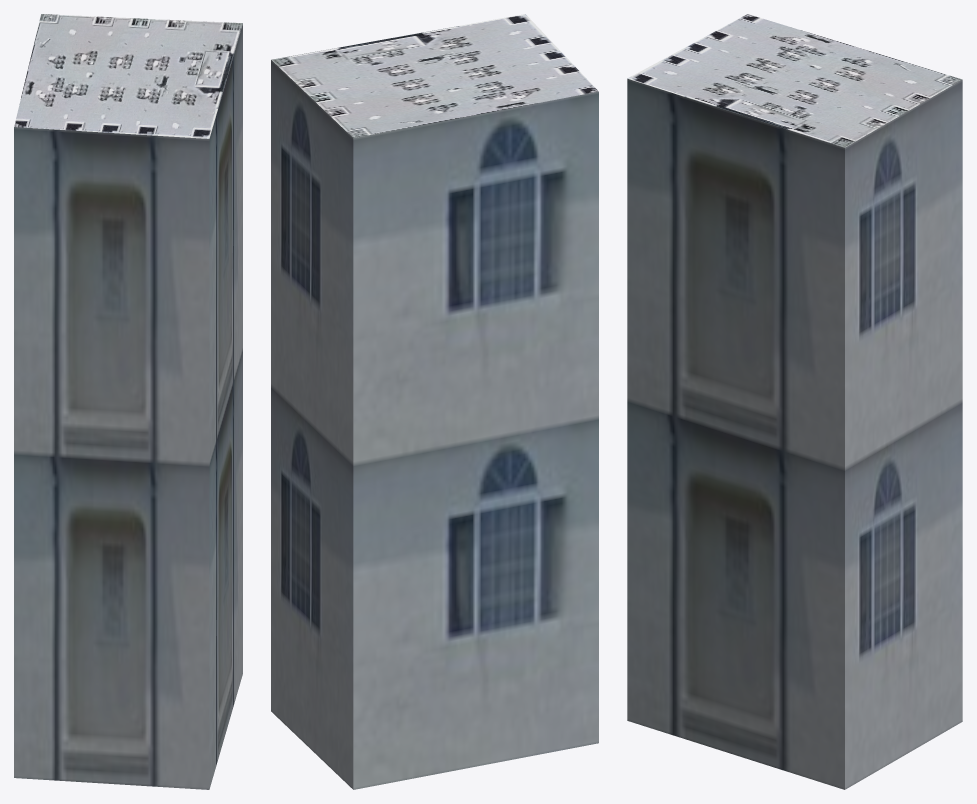
The model's file is ResTex__4917.fbx.
3 renders of one model, left to right at view 1: azimuth 30°, elevation 25°; view 2: azimuth 150°, elevation 25°; view 3: azimuth 270°, elevation 25°, orthographic.
Parts seen in each view (by area): view 1: CityEngineMaterial_17_m, CityEngineMaterial_m; view 2: CityEngineMaterial_17_m, CityEngineMaterial_m; view 3: CityEngineMaterial_17_m, CityEngineMaterial_m.
Boxes of the visible parts, x1,y1,x2,y2 form: CityEngineMaterial_17_m: (14,23,242,789); CityEngineMaterial_m: (14,14,242,138); CityEngineMaterial_17_m: (271,60,598,789); CityEngineMaterial_m: (271,14,598,137); CityEngineMaterial_17_m: (627,78,962,789); CityEngineMaterial_m: (627,14,962,147).
Size of the model in its own units: 2.68 by 6 by 2.84.
Materials: 2 (2 with a texture image).
